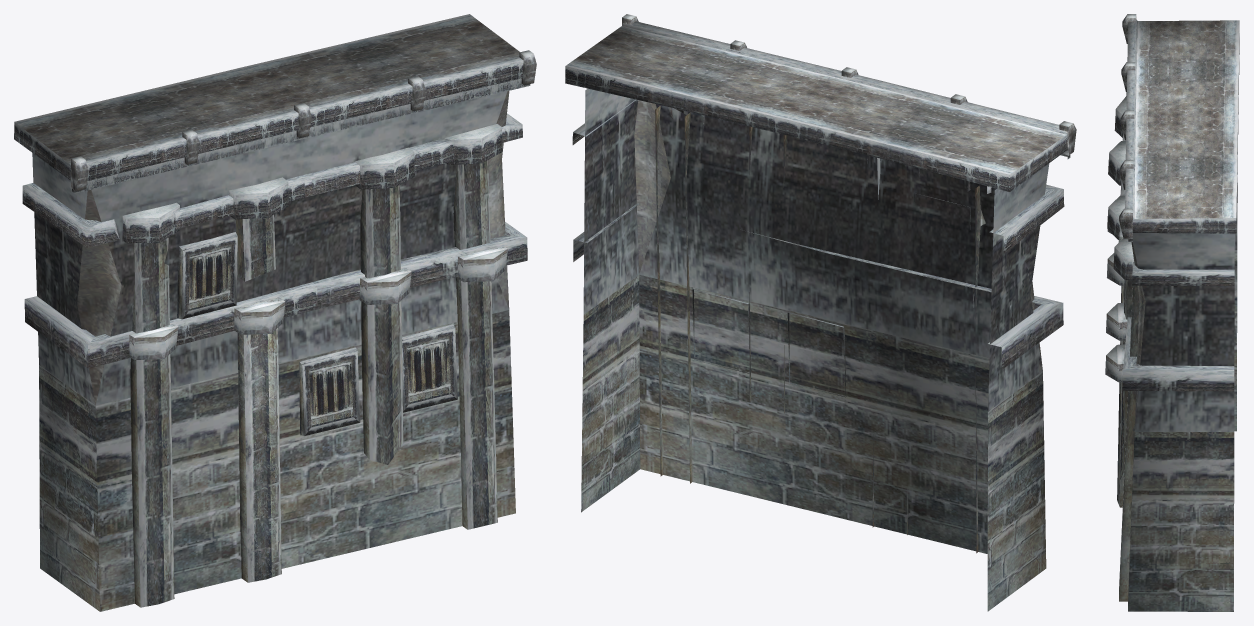
File: S_Build_Snowland147.FBX
3 views of the same model, side by side, from view 1: azimuth 30°, elevation 25°; view 2: azimuth 150°, elevation 25°; view 3: azimuth 270°, elevation 25° (orthographic). The views are drawn at different scales.
Visible parts, largest first — view 1: S_Build_Snowland147; view 2: S_Build_Snowland147; view 3: S_Build_Snowland147.
Boxes of the visible parts, <box> form: S_Build_Snowland147: <box>14,14,536,611</box>; S_Build_Snowland147: <box>565,14,1076,611</box>; S_Build_Snowland147: <box>1105,14,1239,611</box>.
Size of the model in its own units: 1487 by 428 by 1430.
